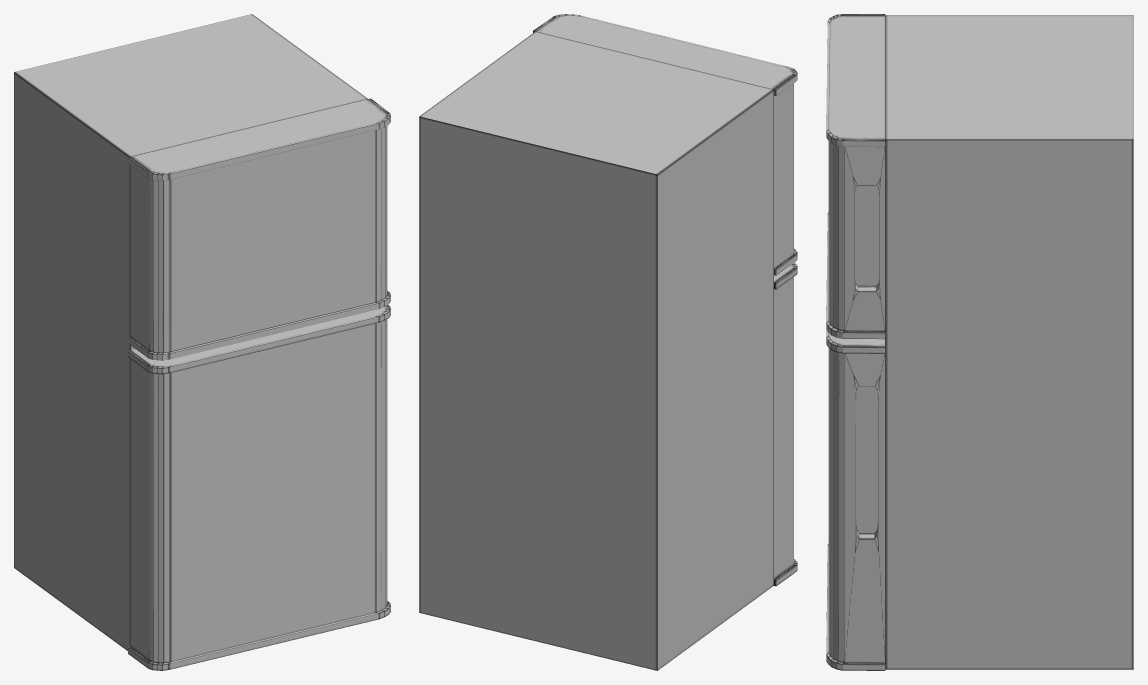
File: Fridge Model.fbx
3 views of the same model, side by side, from view 1: azimuth 30°, elevation 25°; view 2: azimuth 150°, elevation 25°; view 3: azimuth 270°, elevation 25° (orthographic). The views are drawn at different scales.
Parts seen in each view (by area): view 1: Fridge Model, bot door, top door, silver 2, silver 1; view 2: Fridge Model, silver 2, bot door, top door, silver 1; view 3: Fridge Model, bot door, top door, silver 2, silver 1.
Boxes of the visible parts, x1=… form: Fridge Model: x1=14, y1=14, x2=367, y2=650; bot door: x1=130, y1=319, x2=387, y2=663; top door: x1=128, y1=126, x2=390, y2=354; silver 2: x1=128, y1=98, x2=390, y2=360; silver 1: x1=128, y1=305, x2=390, y2=670; Fridge Model: x1=419, y1=31, x2=773, y2=670; silver 2: x1=533, y1=14, x2=797, y2=275; bot door: x1=774, y1=277, x2=793, y2=578; top door: x1=774, y1=83, x2=797, y2=269; silver 1: x1=774, y1=262, x2=797, y2=586; Fridge Model: x1=885, y1=15, x2=1133, y2=669; bot door: x1=828, y1=348, x2=885, y2=662; top door: x1=826, y1=141, x2=885, y2=332; silver 2: x1=826, y1=14, x2=885, y2=339; silver 1: x1=826, y1=330, x2=885, y2=670.
Bounding box in the file's own units: 100 × 196 × 103.
1 material, 1 textured.
